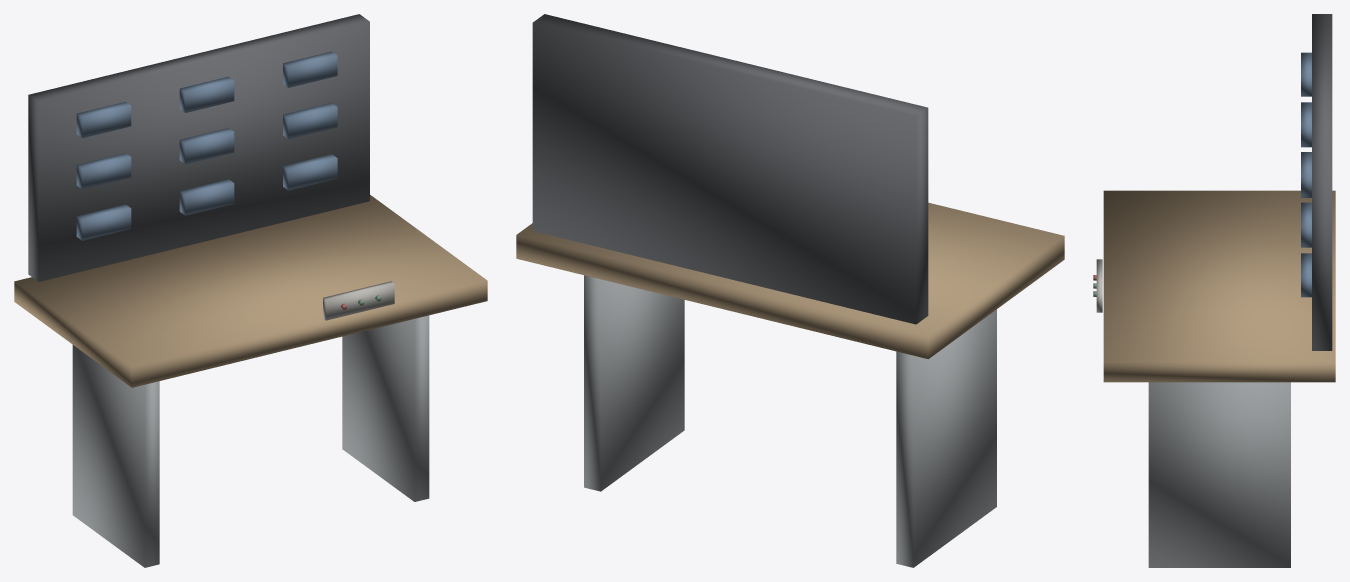
Rendered from electronics_repair_bench__deep.glb.
The picture shows the model from 3 angles, left to right: view 1: azimuth 30°, elevation 25°; view 2: azimuth 150°, elevation 25°; view 3: azimuth 270°, elevation 25°; orthographic projection. The views are drawn at different scales.
Parts seen in each view (by area): view 1: world; view 2: world; view 3: world.
Part boxes in pixels (x1=…): world: x1=14, y1=14, x2=487, y2=567; world: x1=516, y1=14, x2=1064, y2=567; world: x1=1093, y1=14, x2=1335, y2=567.
Size of the model in its own units: 1.45 by 1.6 by 0.8674.
